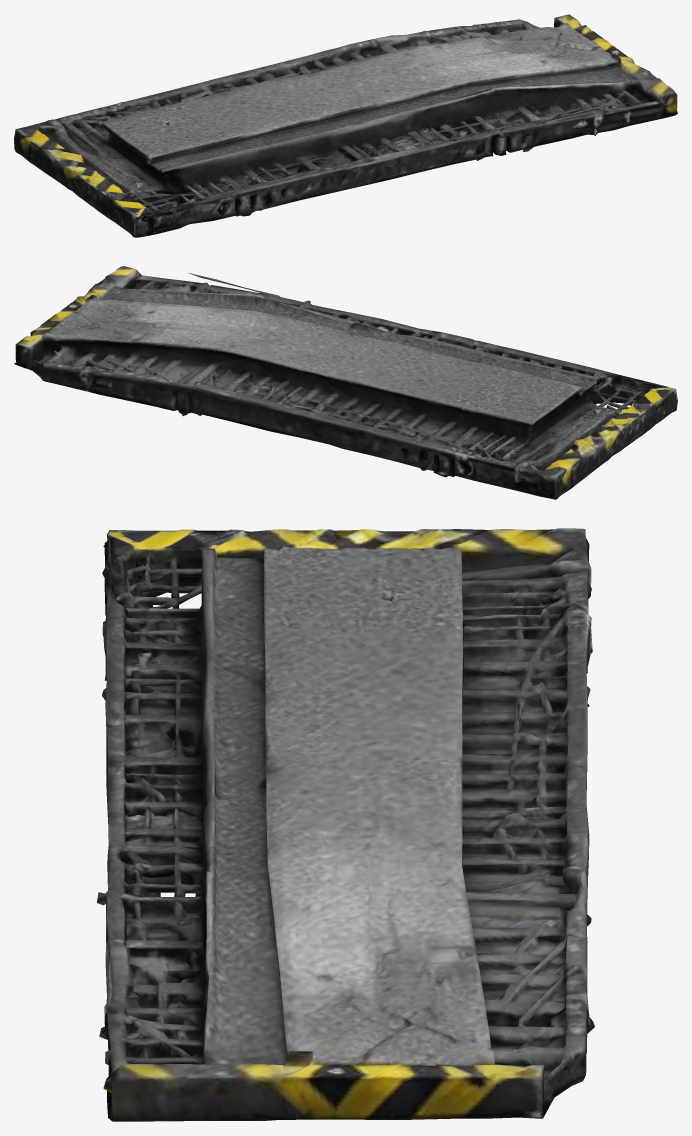
Rendered from gr_platform.glb.
The picture shows the model from 3 angles, top to bottom: view 1: azimuth 30°, elevation 25°; view 2: azimuth 150°, elevation 25°; view 3: azimuth 270°, elevation 25°; orthographic projection. The views are drawn at different scales.
Visible parts, largest first — view 1: tripo_node_11b559fb-34e3-457f-9475-753706847f2e; view 2: tripo_node_11b559fb-34e3-457f-9475-753706847f2e; view 3: tripo_node_11b559fb-34e3-457f-9475-753706847f2e.
Part boxes in pixels (<box>): tripo_node_11b559fb-34e3-457f-9475-753706847f2e: <box>14,14,677,237</box>; tripo_node_11b559fb-34e3-457f-9475-753706847f2e: <box>14,266,677,499</box>; tripo_node_11b559fb-34e3-457f-9475-753706847f2e: <box>97,528,594,1121</box>.
Bounding box in the file's own units: 0.9817 × 0.0904 × 0.3879.
1 material, 1 textured.
